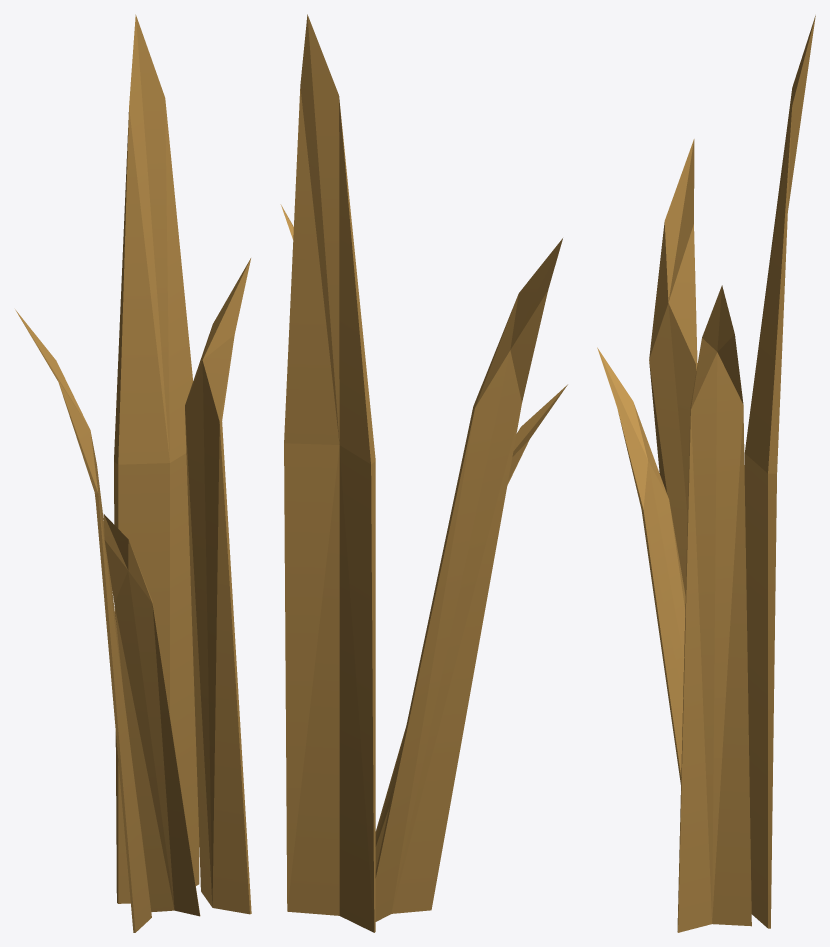
The model's file is Env_Grass_Patch_Yellow_01.obj.
3 renders of one model, left to right at view 1: azimuth 30°, elevation 25°; view 2: azimuth 150°, elevation 25°; view 3: azimuth 270°, elevation 25°, orthographic. The views are drawn at different scales.
Parts seen in each view (by area): view 1: Env_Grass_Patch_Yellow_01; view 2: Env_Grass_Patch_Yellow_01; view 3: Env_Grass_Patch_Yellow_01.
Boxes of the visible parts, bbox=[...] form: Env_Grass_Patch_Yellow_01: bbox=[15, 14, 251, 932]; Env_Grass_Patch_Yellow_01: bbox=[280, 14, 567, 932]; Env_Grass_Patch_Yellow_01: bbox=[597, 15, 815, 932].
Bounding box in the file's own units: 0.1145 × 0.3771 × 0.0837.
Materials: 1 (1 with a texture image).
